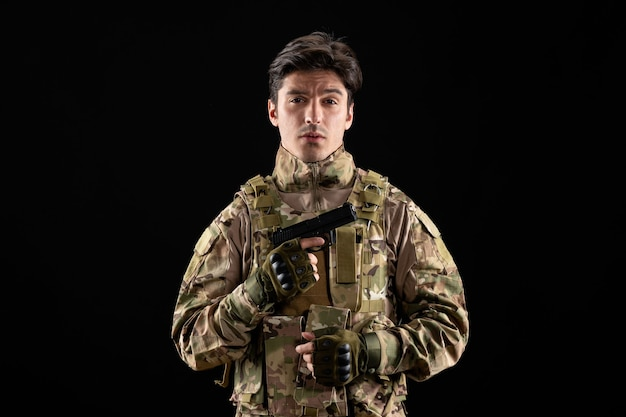gun: (275, 201, 360, 260)
